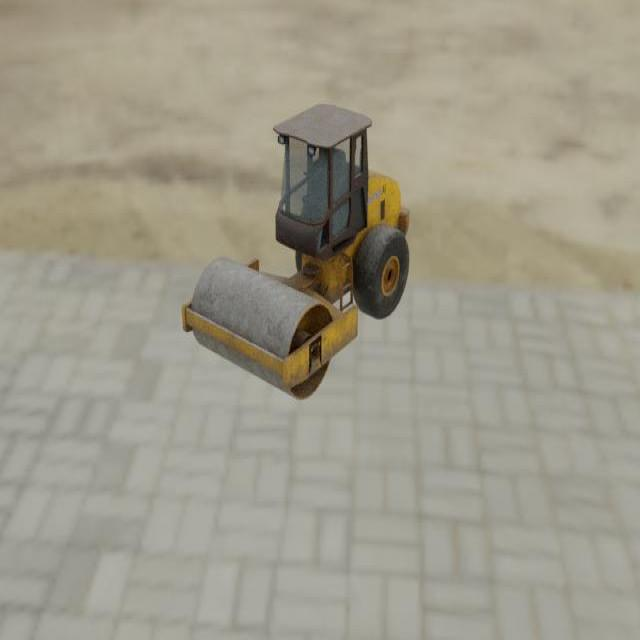Roller: (181, 103, 410, 400)
